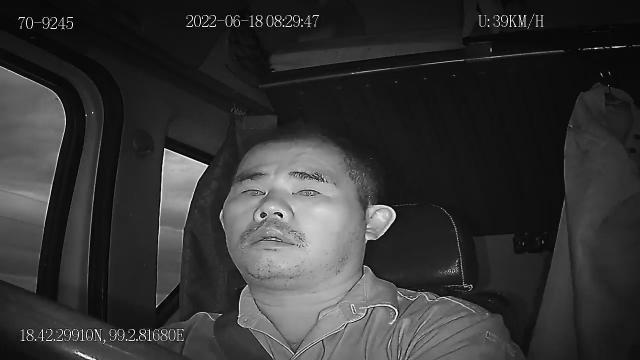SafeDriving: (285, 177, 330, 203), (232, 177, 270, 205)
Seatbelt: (199, 292, 275, 360)
